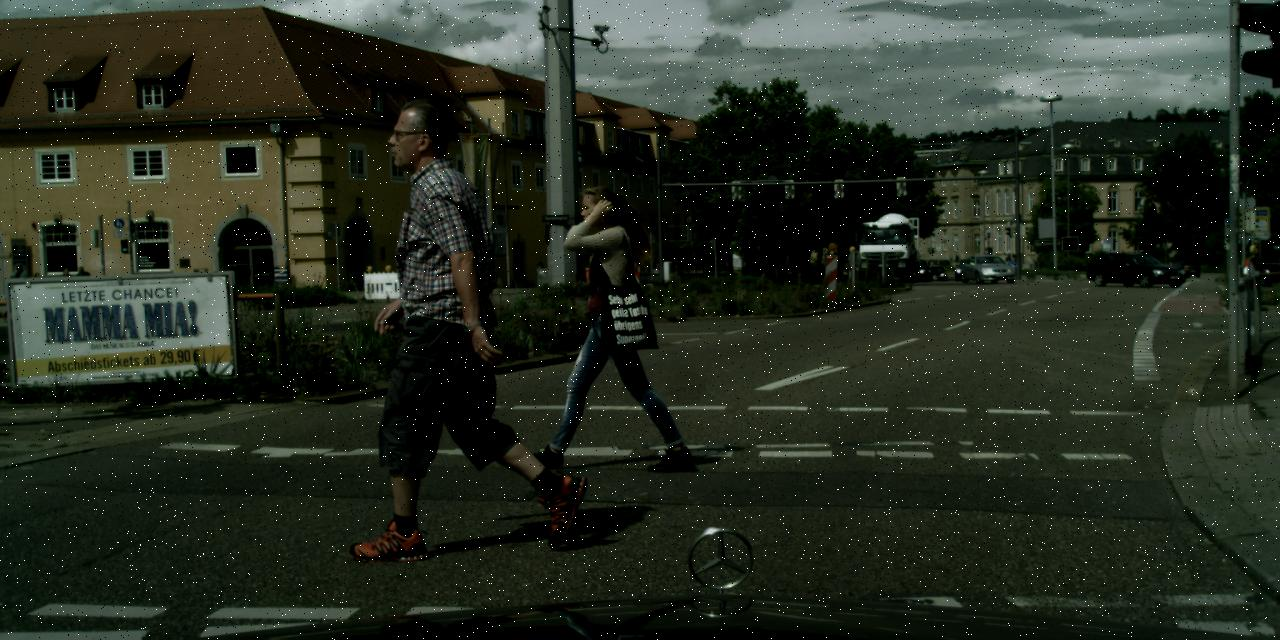ped: (368, 98, 550, 543), (547, 186, 662, 468), (8, 262, 30, 315), (75, 266, 92, 308), (58, 267, 74, 308), (30, 272, 44, 309), (534, 260, 545, 286), (954, 254, 958, 266), (948, 255, 952, 266)
